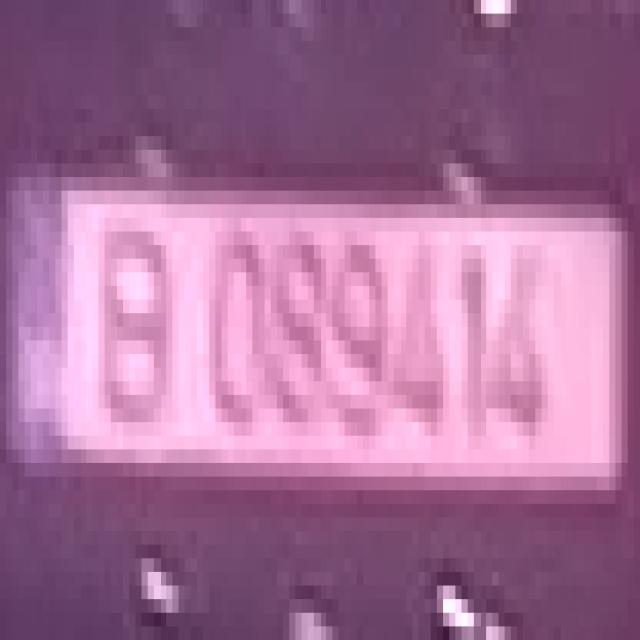Autre: (7, 166, 623, 506)
